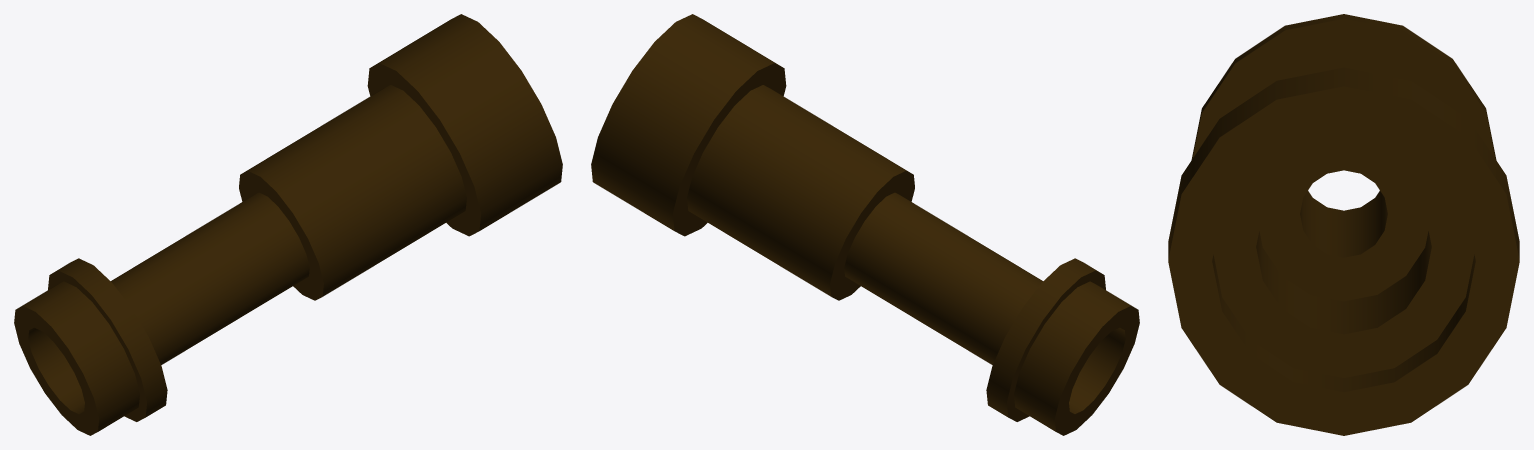
File: telescope_64644.glb
3 renders of one model, left to right at view 1: azimuth 30°, elevation 25°; view 2: azimuth 150°, elevation 25°; view 3: azimuth 270°, elevation 25°, orthographic. The views are drawn at different scales.
Parts seen in each view (by area): view 1: 00001_64644.dat; view 2: 00001_64644.dat; view 3: 00001_64644.dat.
Part boxes in pixels (x1=…): 00001_64644.dat: x1=14, y1=14, x2=562, y2=435; 00001_64644.dat: x1=591, y1=14, x2=1139, y2=435; 00001_64644.dat: x1=1168, y1=14, x2=1519, y2=435.
Bounding box in the file's own units: 2.16 × 1.29 × 0.7487.
